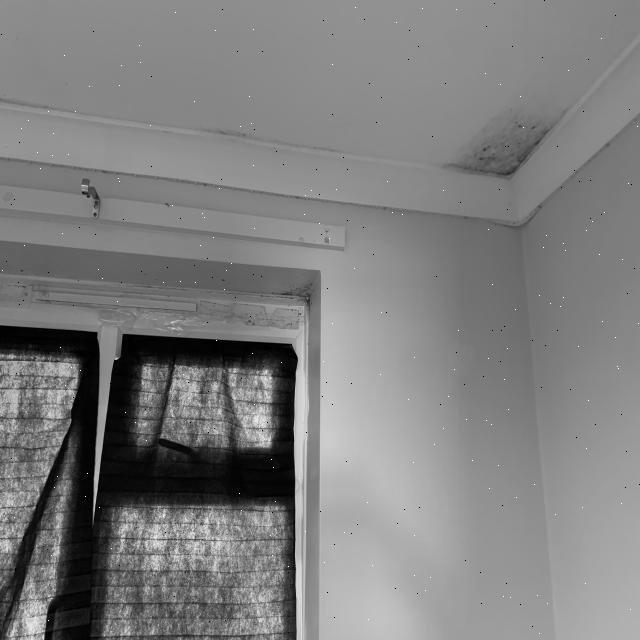stain marks: (439, 86, 561, 185), (192, 118, 346, 160), (108, 270, 260, 298), (0, 83, 90, 128), (258, 265, 326, 315)
